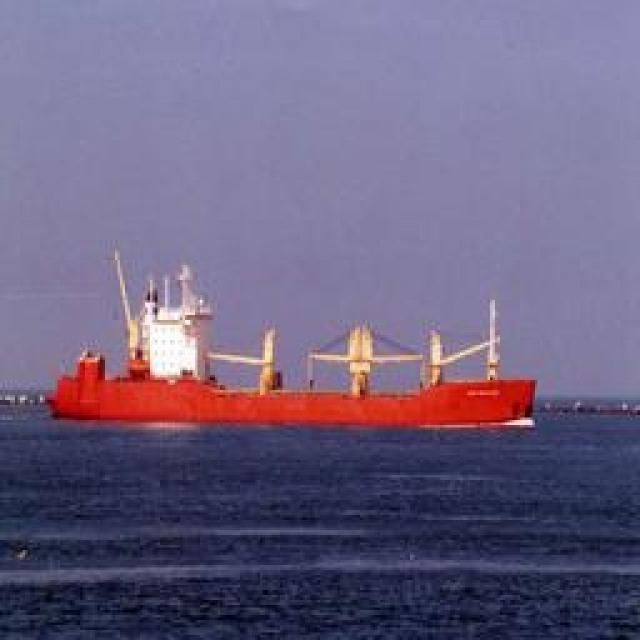ship2: (44, 244, 536, 429)
